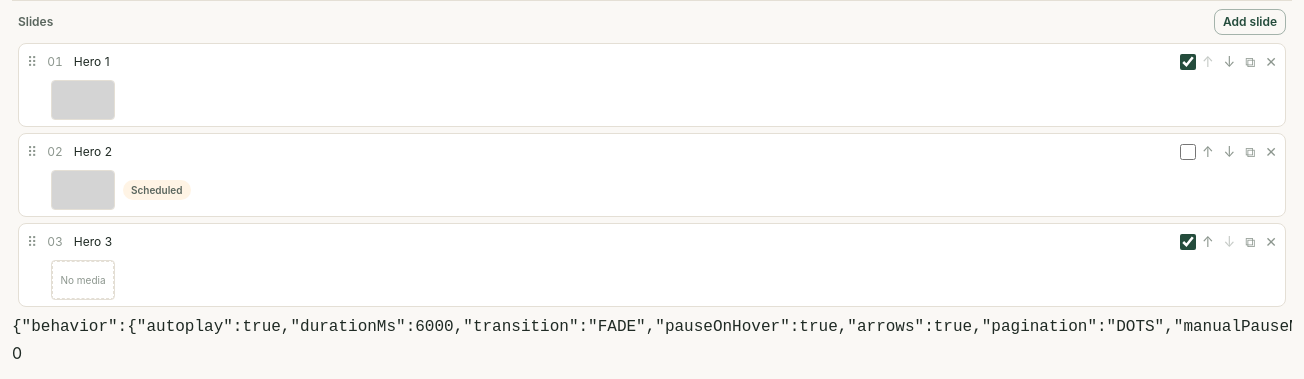
SlideList › selects a slide from its media thumbnail or empty-media area
The image size is (1304, 379).
Click the button named "Hero 1: Replace media" at {"x": 83, "y": 100}, box [51,80,115,120]
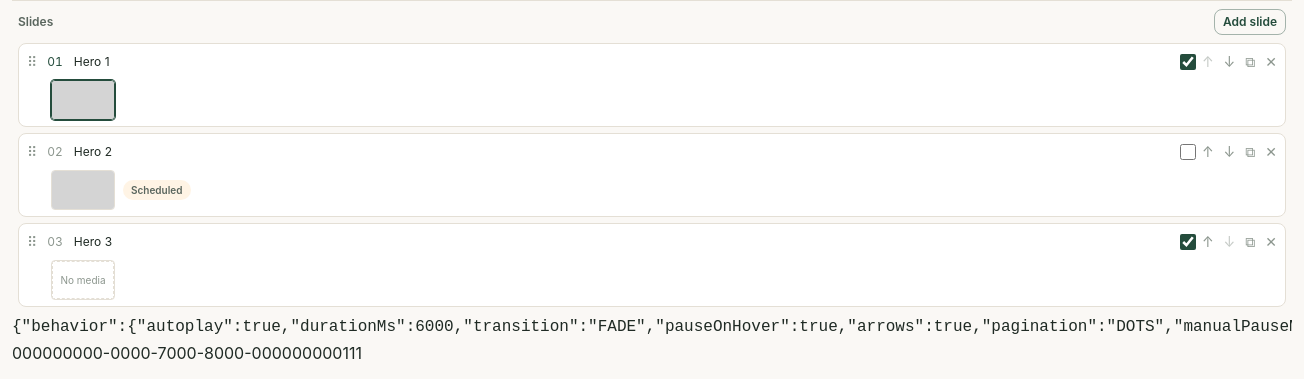
Now the text with test id "selected-slide" reads "00000000-0000-7000-8000-000000000111", box [22,343,362,363]
Click the button with aria-label "Hero 3: Add image or video" at {"x": 83, "y": 280}, box [51,260,115,300]
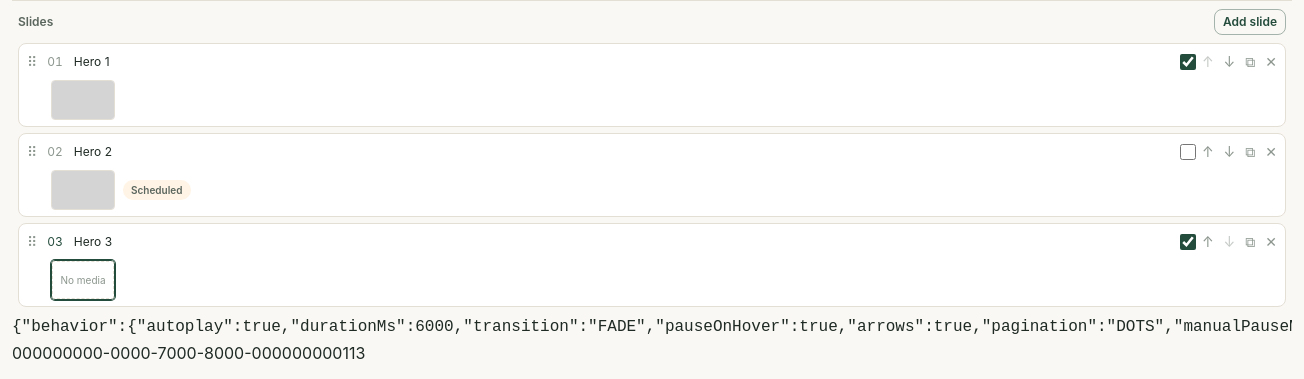
Now the text with test id "selected-slide" reads "00000000-0000-7000-8000-000000000113", box [22,343,365,363]
